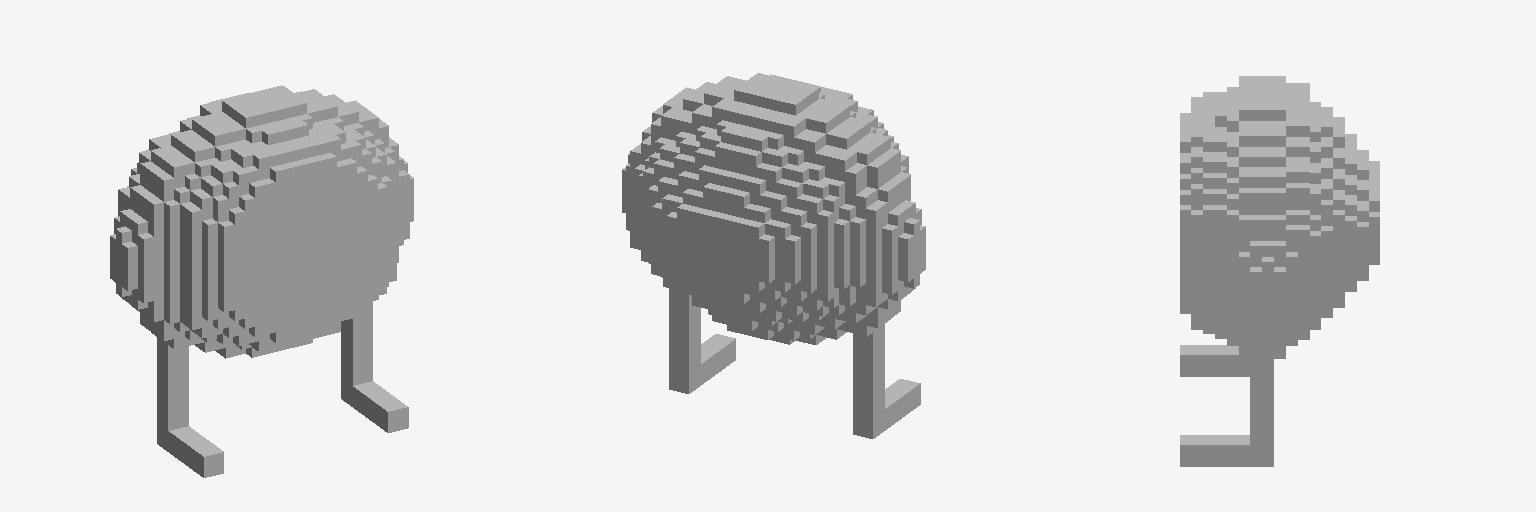
Rendered from stone.obj.
3 renders of one model, left to right at view 1: azimuth 30°, elevation 25°; view 2: azimuth 150°, elevation 25°; view 3: azimuth 270°, elevation 25°, orthographic.
Parts seen in each view (by area): view 1: object 1; view 2: object 1; view 3: object 1.
Boxes of the visible parts, <box> form: object 1: <box>110,85,413,477</box>; object 1: <box>622,73,925,438</box>; object 1: <box>1180,76,1379,466</box>.
Bounding box in the file's own units: 2.8 × 3 × 1.7.